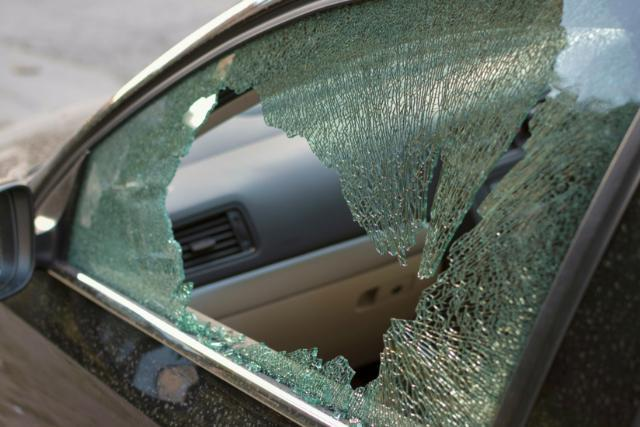Door: (34, 0, 640, 427)
